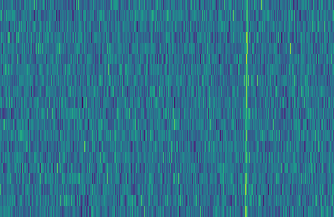signal: (242, 0, 252, 217)
